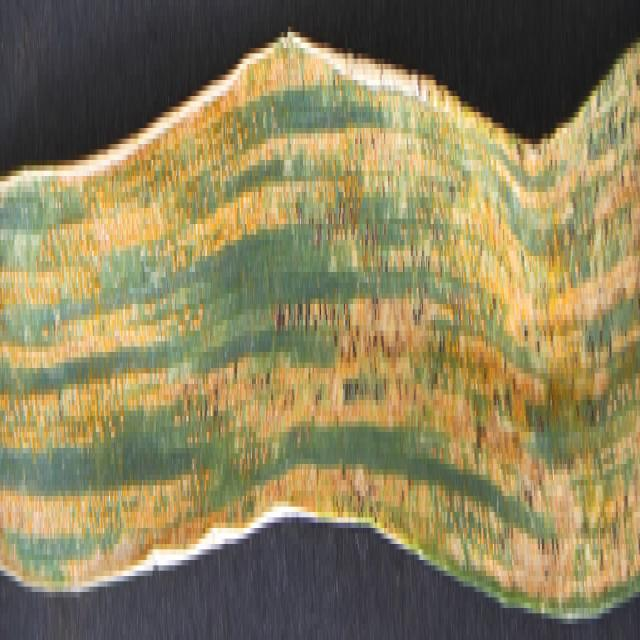leaf rust: (0, 53, 640, 565)
